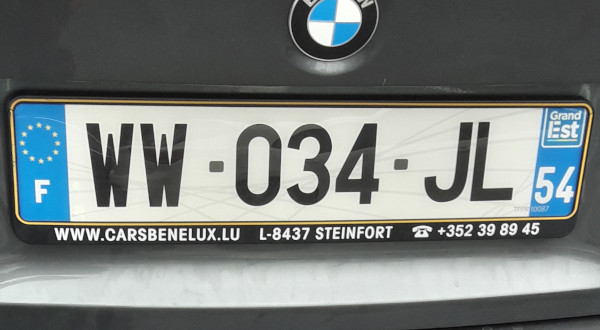license_plate: (10, 98, 593, 224)
